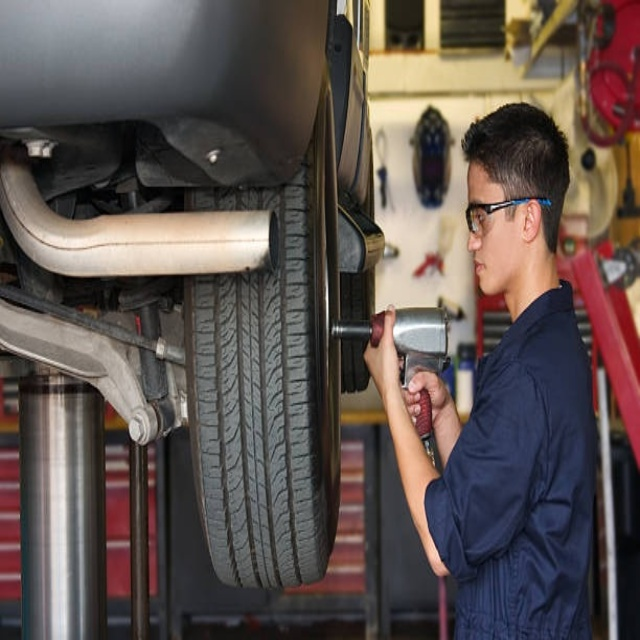Gafas: (465, 198, 551, 235)
Sin_guantes: (358, 298, 404, 402), (399, 362, 456, 435)
Sin_mascara: (468, 249, 502, 293)
